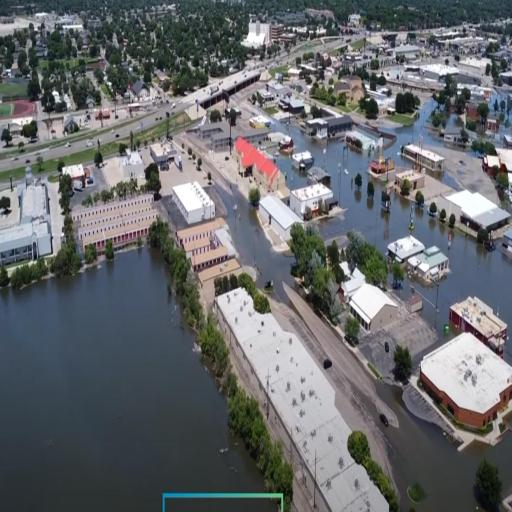flood: (0, 248, 264, 509), (270, 122, 512, 367), (376, 379, 512, 509), (216, 184, 313, 332), (308, 139, 386, 250), (379, 100, 444, 166), (393, 268, 438, 305), (390, 198, 408, 233), (387, 270, 393, 284)
house: (212, 284, 394, 512), (418, 330, 512, 444), (69, 198, 162, 260), (0, 176, 53, 274), (176, 230, 247, 289), (440, 190, 511, 246), (450, 293, 508, 359), (232, 130, 286, 198), (350, 281, 399, 339), (305, 110, 354, 152), (172, 180, 216, 226), (291, 181, 338, 221), (408, 246, 452, 286), (481, 143, 512, 191), (403, 142, 446, 174), (389, 233, 425, 269), (198, 121, 232, 157), (333, 72, 364, 105), (396, 169, 425, 198), (246, 21, 274, 51), (149, 139, 177, 168), (370, 154, 396, 183), (131, 78, 153, 108), (292, 148, 315, 175), (308, 166, 333, 186), (63, 114, 83, 137), (406, 294, 423, 318), (257, 89, 277, 109)
